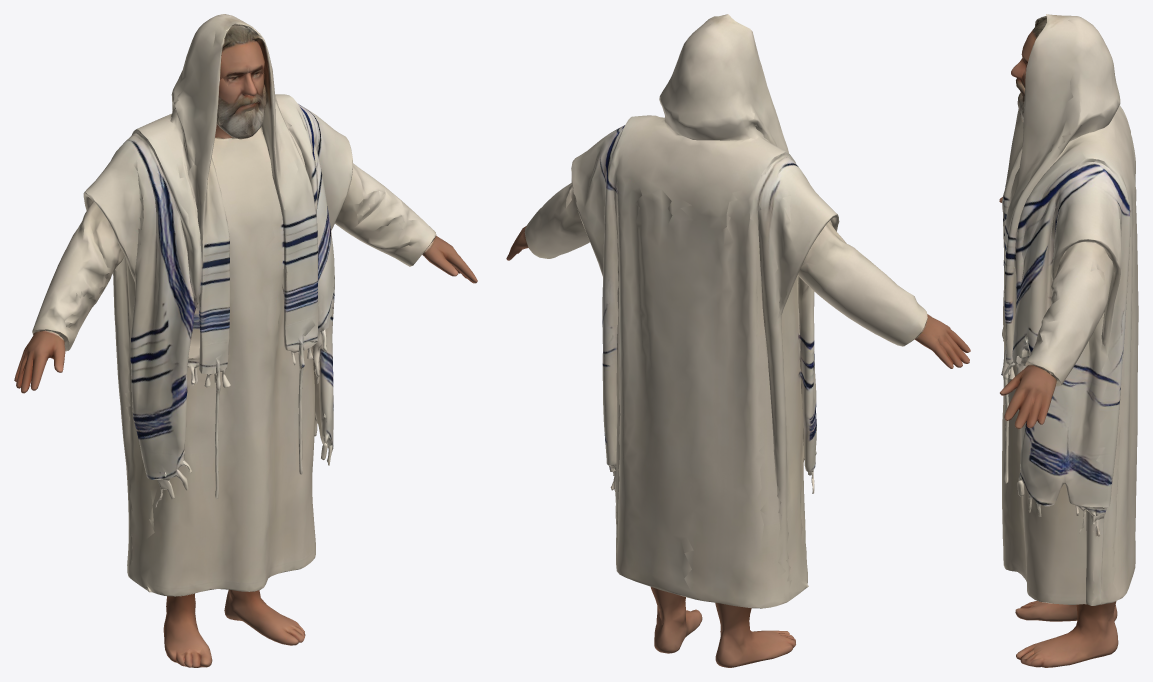
The model's file is israelite_talith_1.glb.
3 renders of one model, left to right at view 1: azimuth 30°, elevation 25°; view 2: azimuth 150°, elevation 25°; view 3: azimuth 270°, elevation 25°, orthographic.
Visible parts, largest first — view 1: Mesh; view 2: Mesh; view 3: Mesh.
Part boxes in pixels (bbox=[...]): Mesh: bbox=[14, 14, 477, 667]; Mesh: bbox=[506, 14, 970, 667]; Mesh: bbox=[999, 14, 1138, 667].
Bounding box in the file's own units: 1.45 × 1.89 × 0.3831.
1 material, 1 textured.
